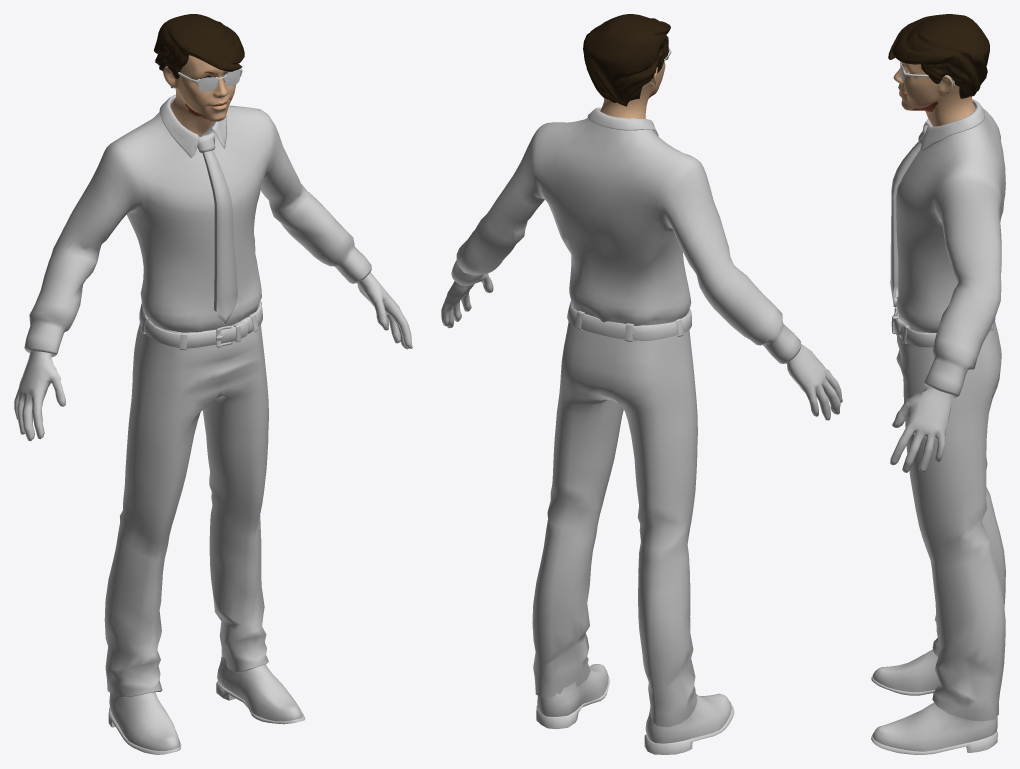
3 views of the same model, side by side, from view 1: azimuth 30°, elevation 25°; view 2: azimuth 150°, elevation 25°; view 3: azimuth 270°, elevation 25° (orthographic).
Visible parts, largest first — view 1: Wolf3D_Outfit_Top, Wolf3D_Outfit_Bottom, Wolf3D_Outfit_Footwear, Wolf3D_Body, Wolf3D_Hair, Wolf3D_Head; view 2: Wolf3D_Outfit_Bottom, Wolf3D_Outfit_Top, Wolf3D_Hair, Wolf3D_Outfit_Footwear, Wolf3D_Body, Wolf3D_Head; view 3: Wolf3D_Outfit_Bottom, Wolf3D_Outfit_Top, Wolf3D_Outfit_Footwear, Wolf3D_Hair, Wolf3D_Body, Wolf3D_Head.
Boxes of the visible parts, x1,y1,x2,y2 form: Wolf3D_Outfit_Top: (24, 94, 371, 357); Wolf3D_Outfit_Bottom: (104, 301, 268, 697); Wolf3D_Outfit_Footwear: (108, 655, 305, 754); Wolf3D_Body: (14, 272, 412, 441); Wolf3D_Hair: (154, 14, 244, 88); Wolf3D_Head: (163, 55, 236, 136); Wolf3D_Outfit_Bottom: (532, 301, 697, 727); Wolf3D_Outfit_Top: (451, 107, 800, 363); Wolf3D_Hair: (583, 14, 670, 106); Wolf3D_Outfit_Footwear: (536, 664, 734, 754); Wolf3D_Body: (441, 273, 842, 420); Wolf3D_Head: (600, 61, 665, 118); Wolf3D_Outfit_Bottom: (891, 306, 1005, 721); Wolf3D_Outfit_Top: (890, 99, 1005, 398); Wolf3D_Outfit_Footwear: (871, 649, 997, 754); Wolf3D_Hair: (888, 14, 989, 98); Wolf3D_Body: (890, 280, 952, 472); Wolf3D_Head: (893, 62, 975, 126).
Size of the model in its own units: 1.06 by 1.84 by 0.3236.
